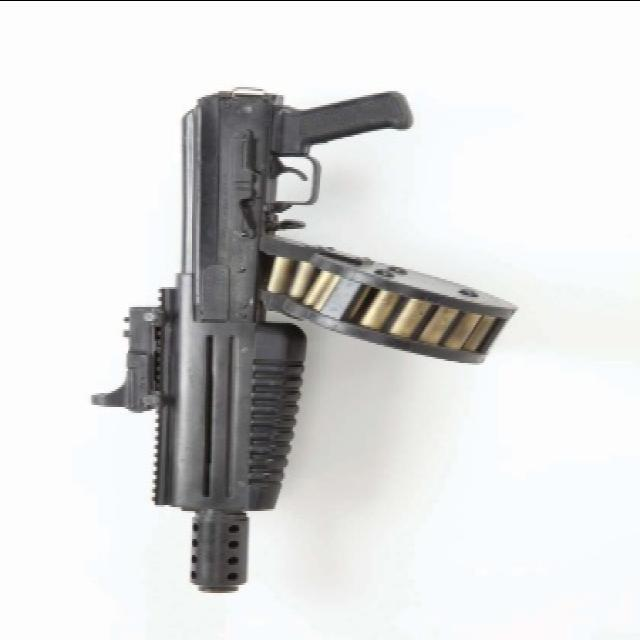rifle: (85, 85, 482, 601)
